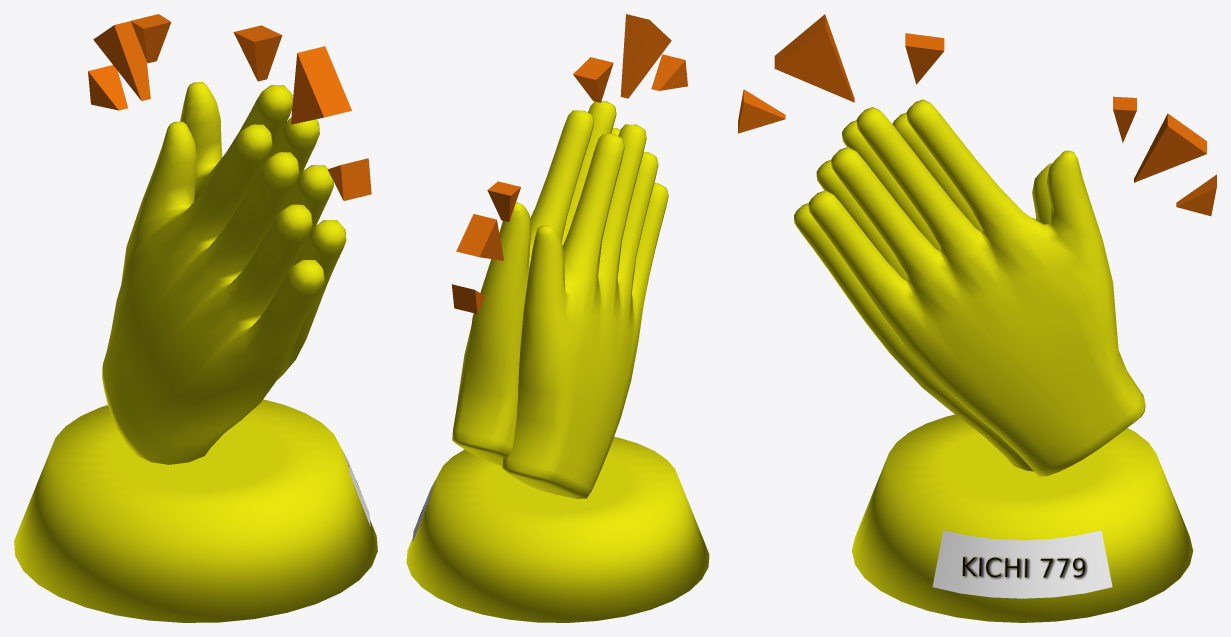
Rendered from reward.fbx.
The picture shows the model from 3 angles, left to right: view 1: azimuth 30°, elevation 25°; view 2: azimuth 150°, elevation 25°; view 3: azimuth 270°, elevation 25°; orthographic projection. The views are drawn at different scales.
Visible parts, largest first — view 1: Cylinder; view 2: Cylinder; view 3: Cylinder, Cylinder.001.
Boxes of the visible parts, <box> form: Cylinder: <box>14,14,377,622</box>; Cylinder: <box>406,14,709,622</box>; Cylinder: <box>738,14,1216,622</box>; Cylinder.001: <box>932,530,1112,598</box>.
Bounding box in the file's own units: 38.26 × 66.15 × 53.67.
